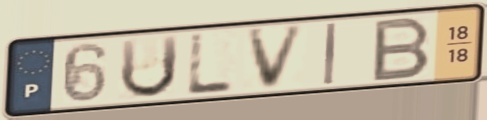6: (61, 40, 110, 105)
B: (368, 14, 434, 84)
I: (321, 21, 340, 87)
L: (183, 31, 238, 98)
U: (116, 32, 182, 101)
V: (244, 21, 310, 93)
